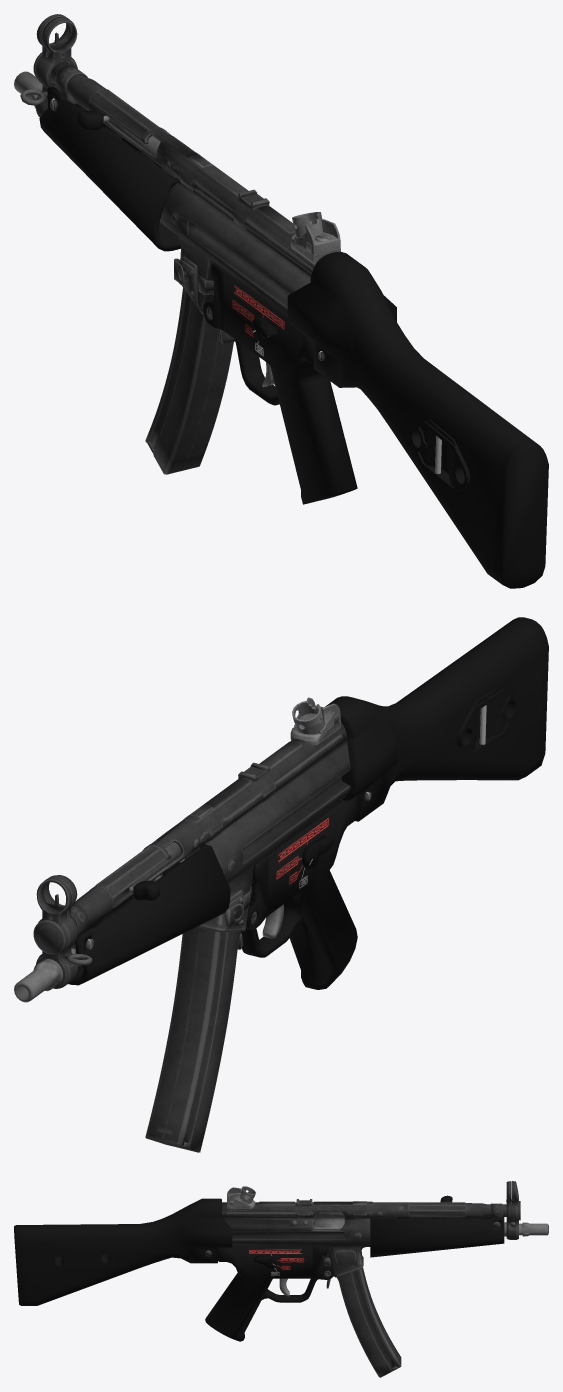
3 renders of one model, top to bottom at view 1: azimuth 30°, elevation 25°; view 2: azimuth 150°, elevation 25°; view 3: azimuth 270°, elevation 25°, orthographic. The views are drawn at different scales.
Parts seen in each view (by area): view 1: MP5.006, MP5.004, MP5.003, MP5.009, MP5, MP5.008; view 2: MP5.006, MP5.004, MP5.003, MP5.009, MP5, MP5.008; view 3: MP5.006, MP5.004, MP5.009, MP5.003, MP5, MP5.008, MP5.005.
Boxes of the visible parts, left/top/right/bottom form: MP5.006: left=203, top=251, right=548, bottom=588; MP5.004: left=50, top=61, right=327, bottom=315; MP5.003: left=145, top=288, right=233, bottom=474; MP5.009: left=39, top=86, right=180, bottom=251; MP5: left=14, top=14, right=441, bottom=473; MP5.008: left=290, top=212, right=340, bottom=264; MP5.006: left=240, top=617, right=548, bottom=989; MP5.004: left=72, top=722, right=350, bottom=932; MP5.003: left=145, top=927, right=240, bottom=1152; MP5.009: left=39, top=844, right=230, bottom=985; MP5: left=14, top=705, right=486, bottom=1002; MP5.008: left=290, top=697, right=340, bottom=747; MP5.006: left=14, top=1198, right=333, bottom=1341; MP5.004: left=222, top=1199, right=506, bottom=1277; MP5.009: left=370, top=1217, right=504, bottom=1257; MP5.003: left=337, top=1267, right=401, bottom=1377; MP5: left=205, top=1181, right=548, bottom=1288; MP5.008: left=227, top=1186, right=255, bottom=1210; MP5.005: left=314, top=1212, right=344, bottom=1229.
Size of the model in its own units: 52.55 by 231 by 585.
2 materials, 2 textured.
